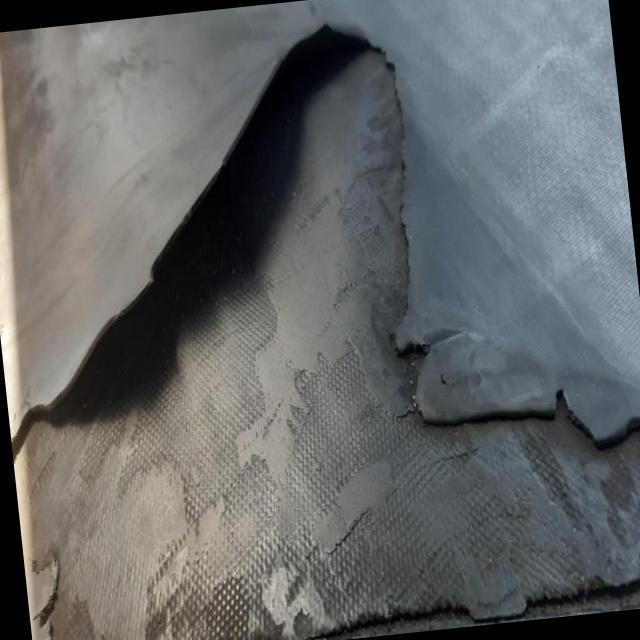Tear: (7, 10, 640, 454)
